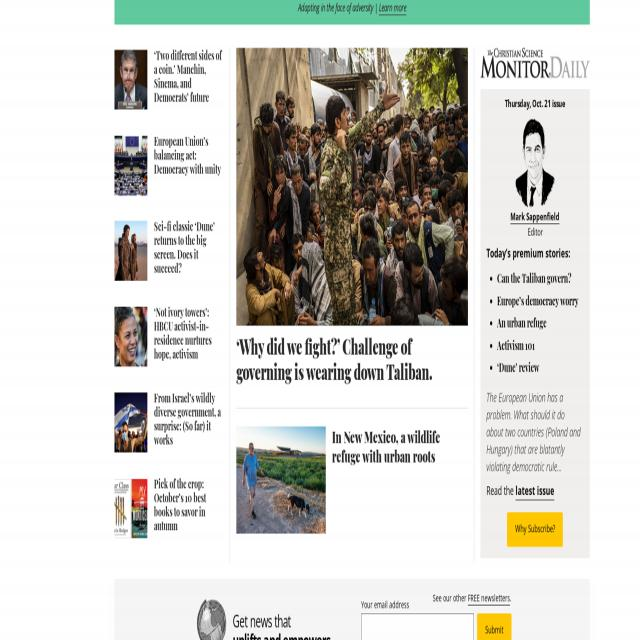button: (236, 48, 468, 326), (236, 426, 326, 534), (476, 41, 592, 85), (510, 117, 560, 209), (114, 478, 148, 538), (114, 136, 148, 195), (114, 221, 148, 280), (114, 307, 148, 366), (114, 393, 148, 452), (114, 50, 148, 109), (507, 512, 563, 546), (478, 614, 512, 640)
field: (362, 614, 474, 640)
